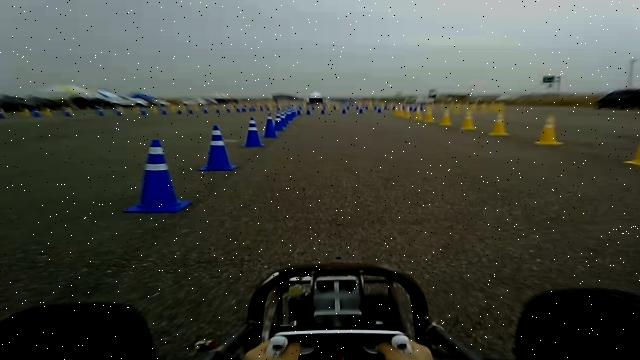blue cone: (123, 139, 192, 213), (197, 125, 236, 171), (242, 116, 264, 147), (263, 114, 277, 138)
yellow cone: (534, 115, 563, 145), (623, 127, 640, 166), (488, 112, 509, 136), (460, 110, 475, 130), (439, 108, 452, 126), (424, 104, 434, 123), (414, 106, 422, 120), (394, 104, 403, 116), (404, 106, 412, 119)
